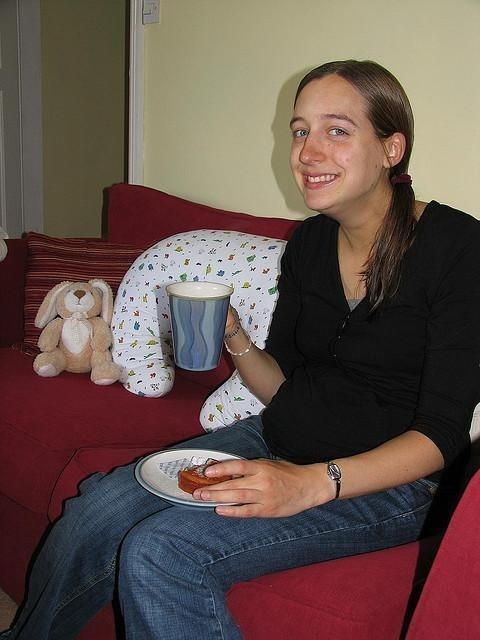cup-handle: (165, 281, 240, 371)
